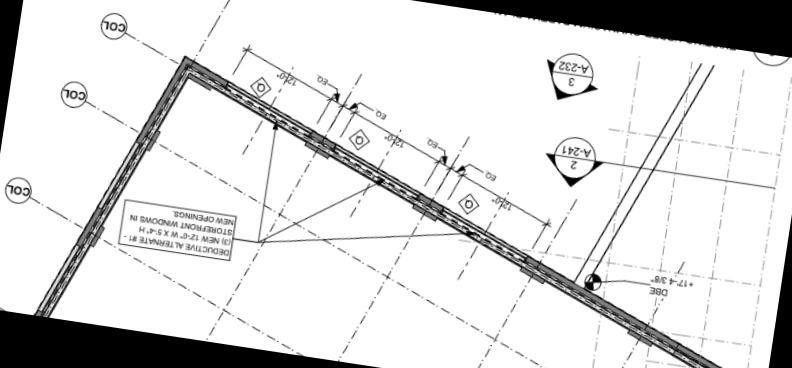window: (667, 337, 729, 368), (73, 202, 106, 255), (300, 124, 339, 165), (408, 185, 445, 228), (514, 266, 546, 292), (144, 126, 164, 159)
